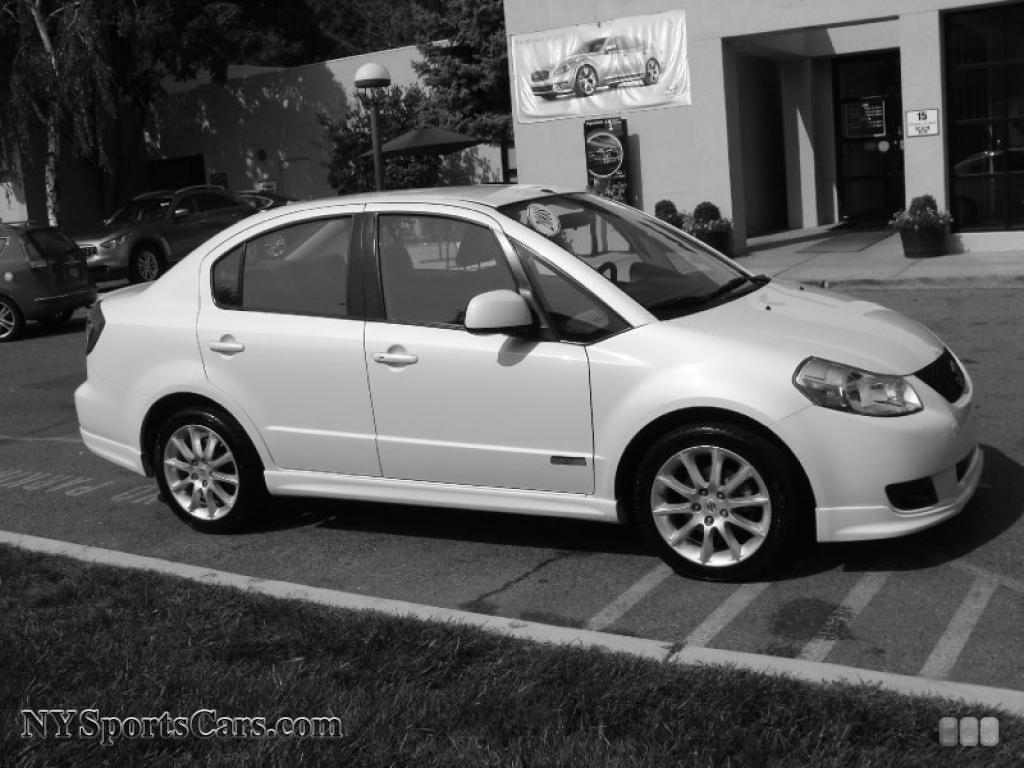car: (68, 178, 984, 592)
